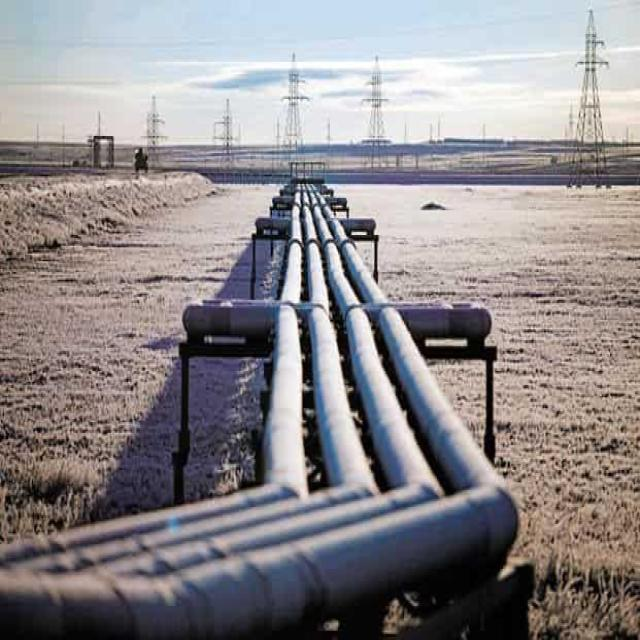gas: (1, 490, 505, 634), (374, 300, 520, 505), (6, 484, 282, 559), (339, 309, 440, 489), (304, 308, 376, 492), (316, 179, 386, 297), (268, 305, 306, 490), (300, 186, 331, 302), (279, 175, 304, 312)
